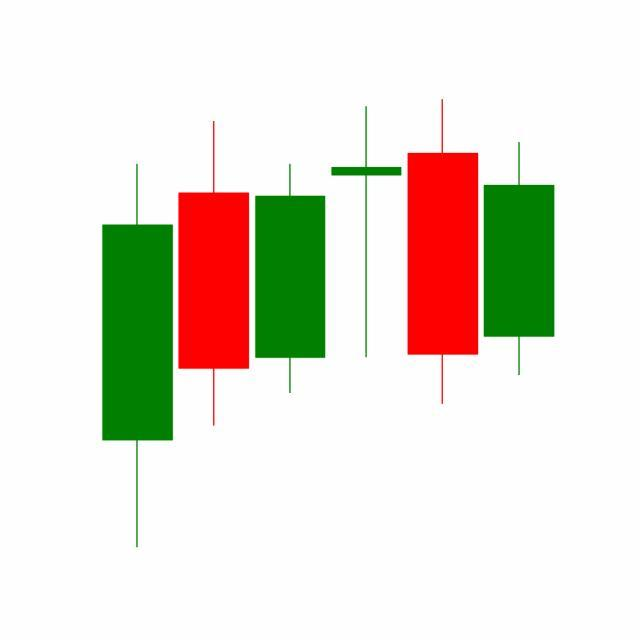Evening Star: (252, 100, 482, 410)
